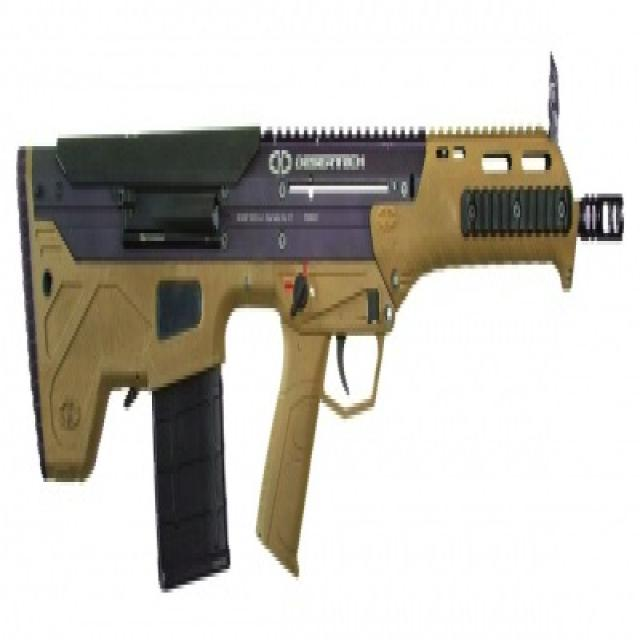rifle: (17, 46, 632, 612)
